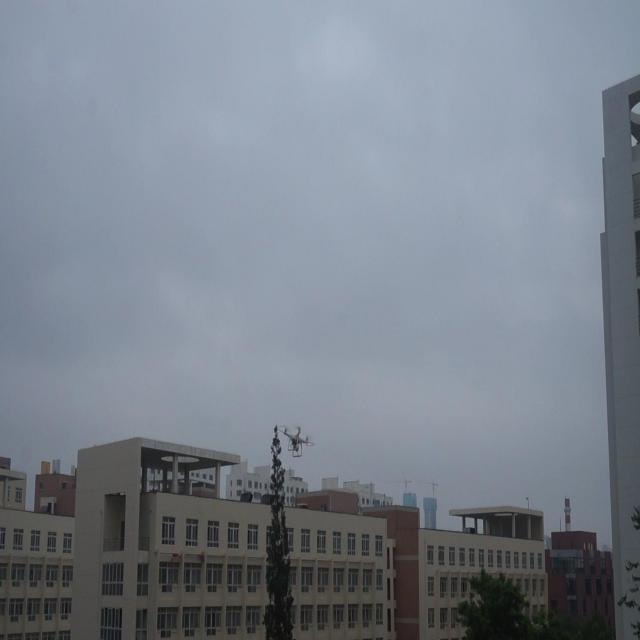UAV: (278, 425, 314, 457)
